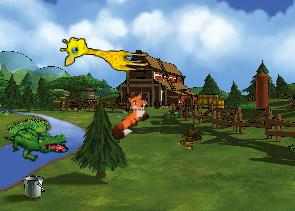crocodile: (3, 117, 70, 168)
fox: (97, 84, 159, 143)
giraffe: (59, 35, 150, 72)
